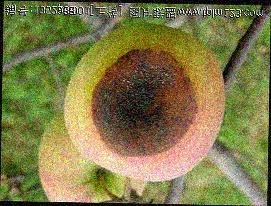rotten apple: (61, 24, 227, 182)
